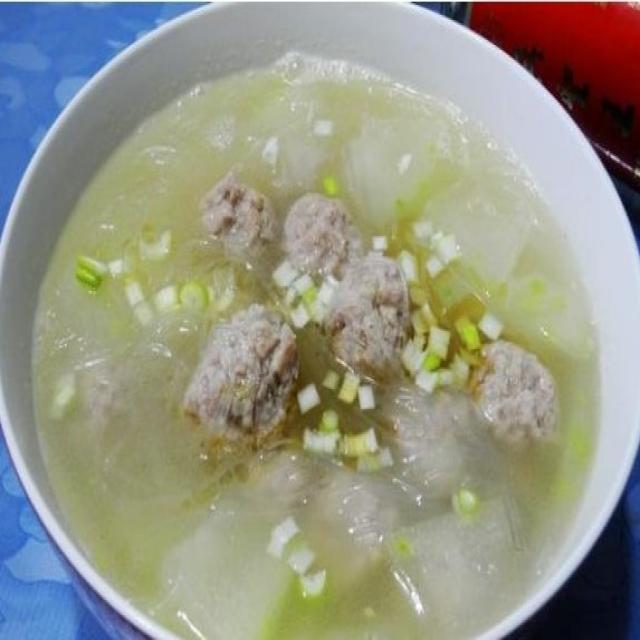汤锅炖物: (38, 45, 582, 628)
